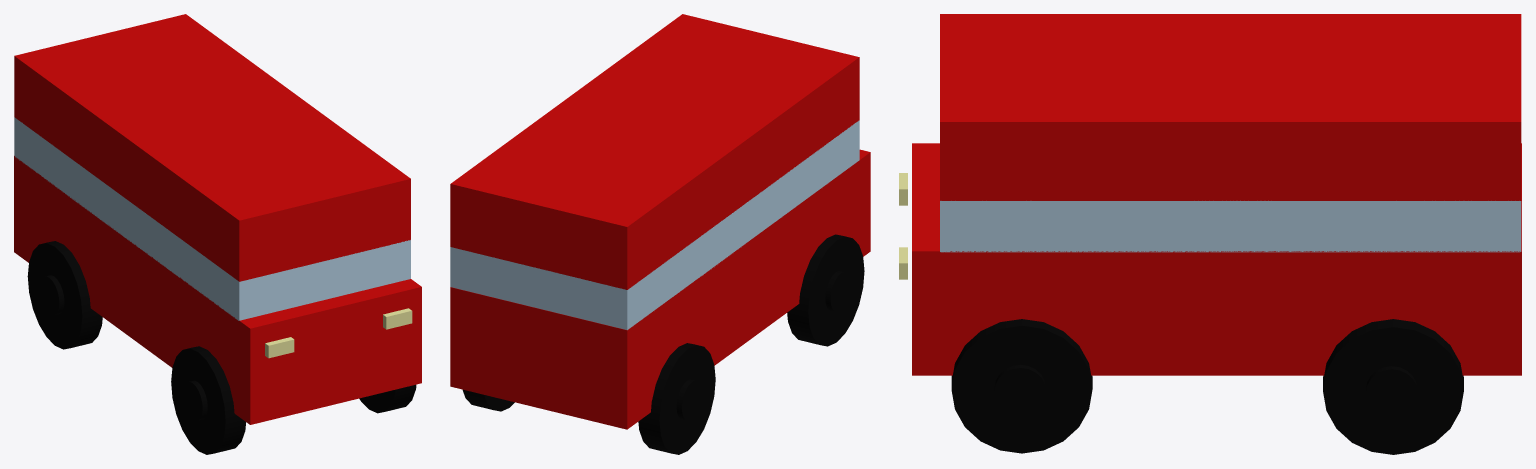
File: Bus.fbx
3 views of the same model, side by side, from view 1: azimuth 30°, elevation 25°; view 2: azimuth 150°, elevation 25°; view 3: azimuth 270°, elevation 25° (orthographic). The views are drawn at different scales.
Parts seen in each view (by area): view 1: pCube7; view 2: pCube7; view 3: pCube7.
Part boxes in pixels (<box>): pCube7: <box>14,14,421,454</box>; pCube7: <box>450,14,870,454</box>; pCube7: <box>899,14,1521,454</box>.
Bounding box in the file's own units: 2.75 × 3.24 × 5.62.
